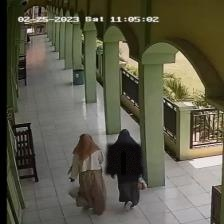Cadar_Niqab: (105, 128, 142, 174)
